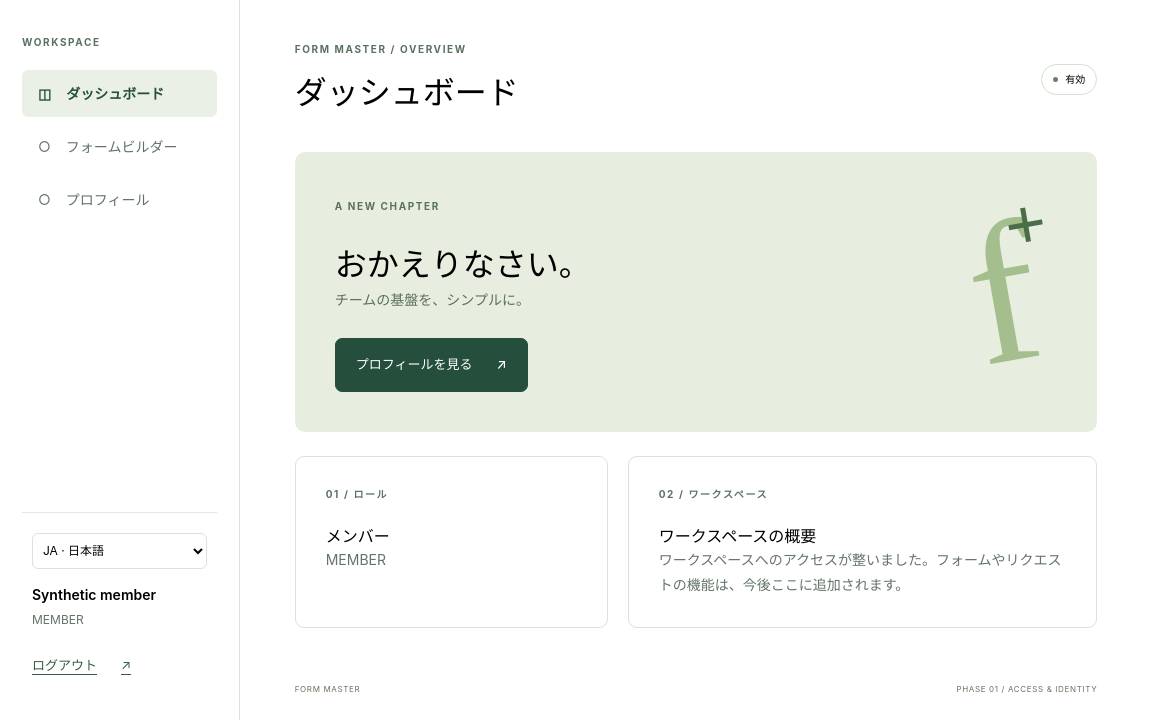
Test: authentication shell › logout sends CSRF token and clears authenticated shell
The width and height of the screenshot is (1152, 720).
expect the heading "おかえりなさい。" is shown: met, box [335, 241, 591, 289]
Click the button "ログアウト ↗".
click(82, 665)  # box [32, 646, 131, 685]
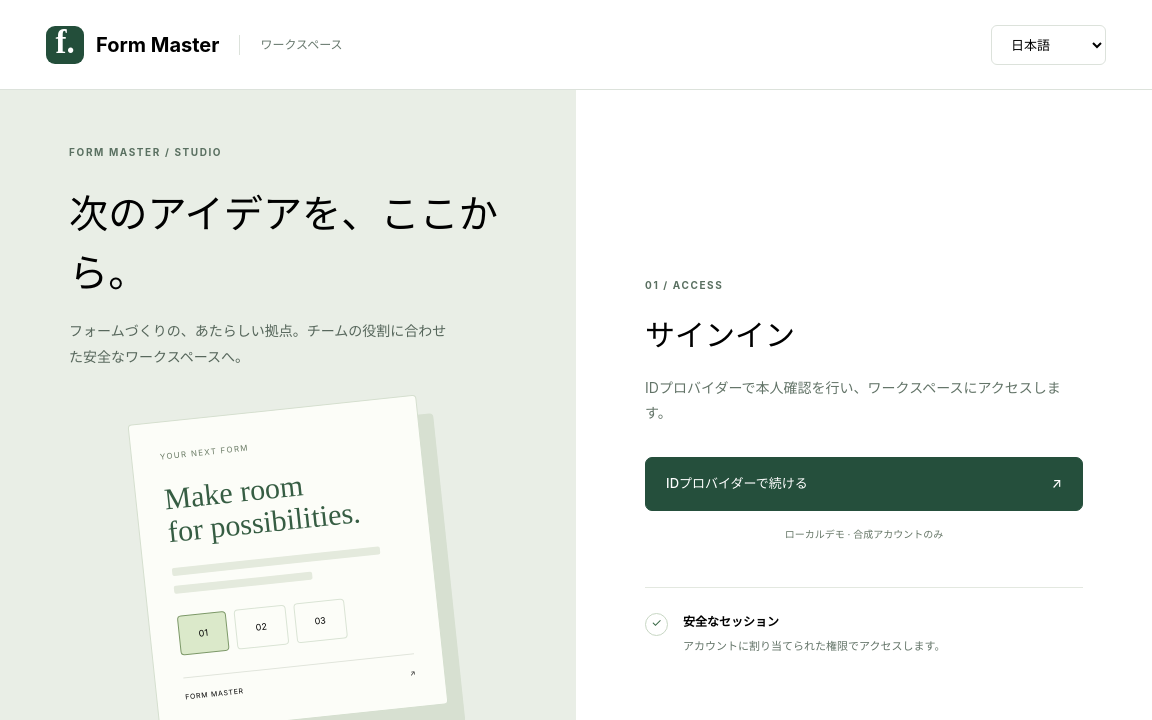
expect the link "IDプロバイダーで続ける ↗" is shown: met, box [645, 457, 1083, 511]
